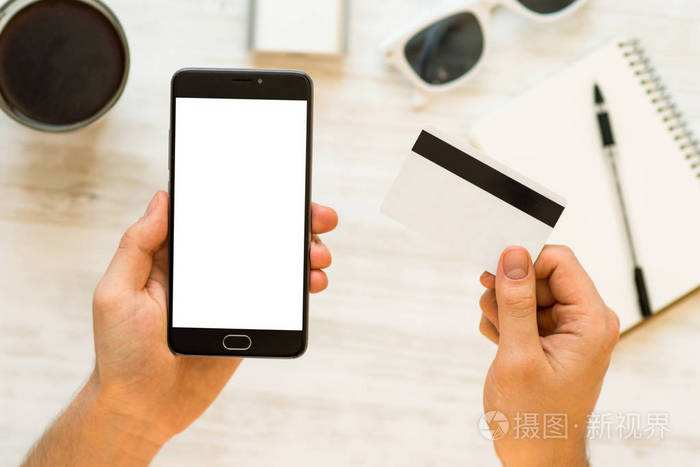phone: (91, 53, 341, 434)
